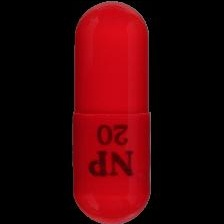60429-300: (0, 0, 224, 224)
